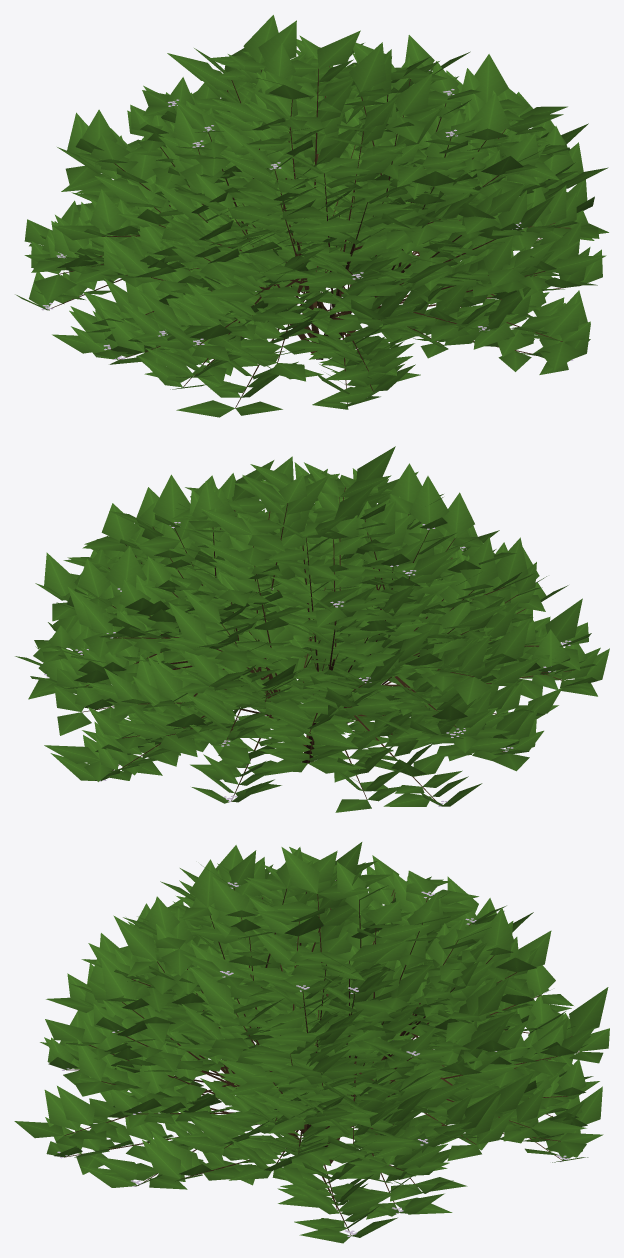
File: SiamWeed_LOD0.fbx
3 renders of one model, top to bottom at view 1: azimuth 30°, elevation 25°; view 2: azimuth 150°, elevation 25°; view 3: azimuth 270°, elevation 25°, orthographic. The views are drawn at different scales.
Visible parts, largest first — view 1: Leaves_SiamWeed_LOD0; view 2: Leaves_SiamWeed_LOD0; view 3: Leaves_SiamWeed_LOD0.
Boxes of the visible parts, x1=… form: Leaves_SiamWeed_LOD0: x1=15, y1=15, x2=608, y2=417; Leaves_SiamWeed_LOD0: x1=15, y1=446, x2=609, y2=812; Leaves_SiamWeed_LOD0: x1=14, y1=842, x2=609, y2=1243.
Bounding box in the file's own units: 188 × 99.49 × 186.
